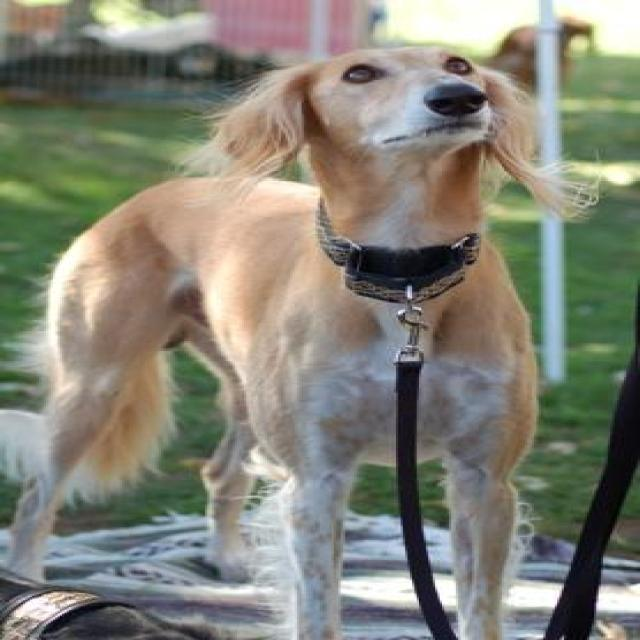saluki: (0, 42, 603, 637)
